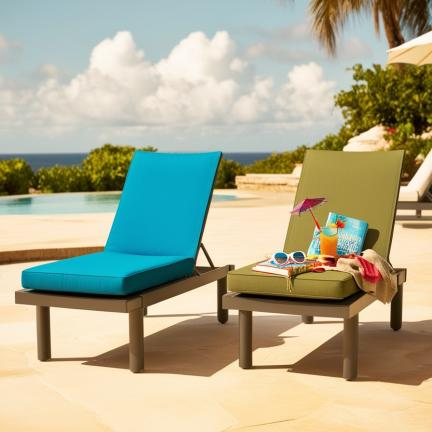empty chair: (15, 151, 234, 372)
occupied chair: (223, 150, 406, 380)
